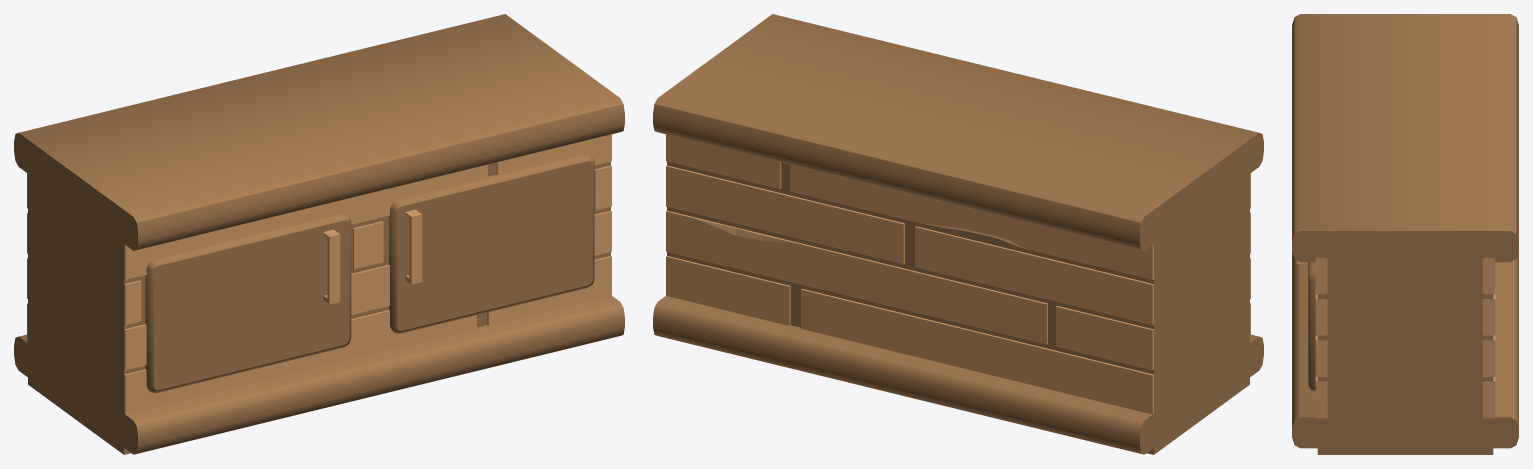
Rendered from Environment_Counter_Doors.fbx.
3 renders of one model, left to right at view 1: azimuth 30°, elevation 25°; view 2: azimuth 150°, elevation 25°; view 3: azimuth 270°, elevation 25°, orthographic. The views are drawn at different scales.
Visible parts, largest first — view 1: Environment_Counter_Doors; view 2: Environment_Counter_Doors; view 3: Environment_Counter_Doors.
Part boxes in pixels (x1,y1,x2,y2): Environment_Counter_Doors: (14,14,624,454); Environment_Counter_Doors: (653,14,1263,454); Environment_Counter_Doors: (1292,14,1518,454).
Size of the model in its own units: 400 by 192 by 177.
